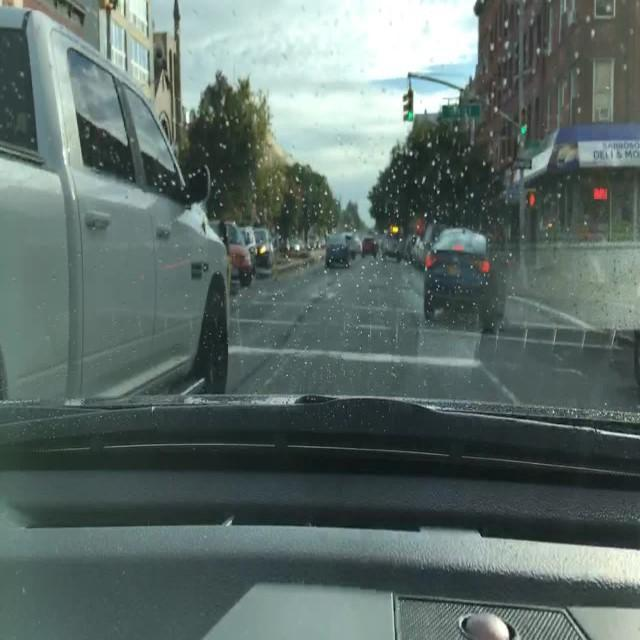normal: (389, 215, 535, 336)
